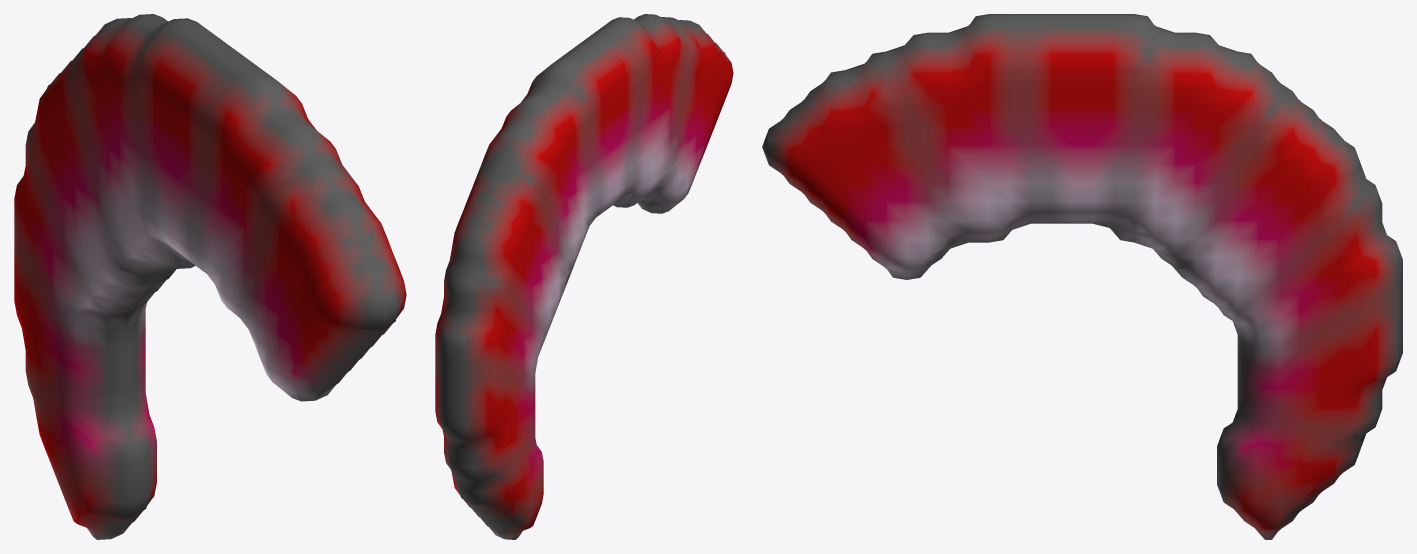
3 renders of one model, left to right at view 1: azimuth 30°, elevation 25°; view 2: azimuth 150°, elevation 25°; view 3: azimuth 270°, elevation 25°, orthographic. The views are drawn at different scales.
Bounding box in the file's own units: 0.2 × 1.39 × 1.55.
